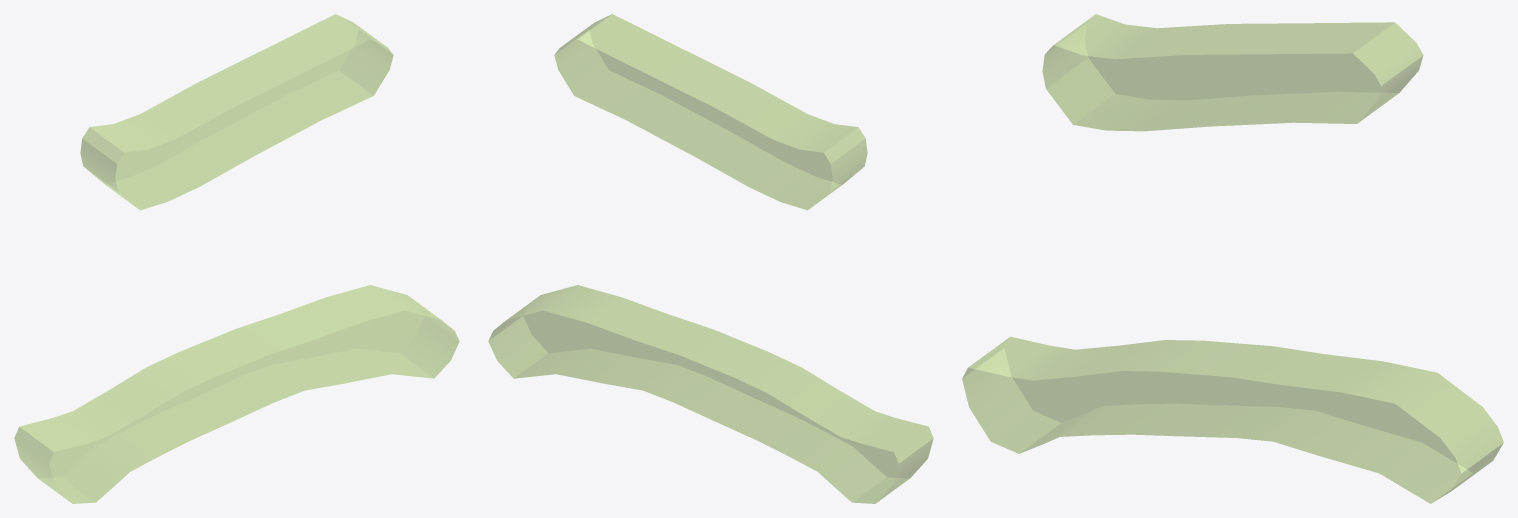
Rendered from two_number_characters.fbx.
3 renders of one model, left to right at view 1: azimuth 30°, elevation 25°; view 2: azimuth 150°, elevation 25°; view 3: azimuth 330°, elevation 25°, orthographic. The views are drawn at different scales.
Visible parts, largest first — view 1: two_b, two_a; view 2: two_b, two_a; view 3: two_b, two_a.
Part boxes in pixels (x1,y1,x2,y2): two_b: (14, 285, 459, 503); two_a: (80, 14, 393, 210); two_b: (488, 285, 933, 503); two_a: (554, 14, 867, 210); two_b: (962, 336, 1503, 503); two_a: (1042, 14, 1423, 131).
Size of the model in its own units: 0.8998 by 0.8297 by 0.1323.
